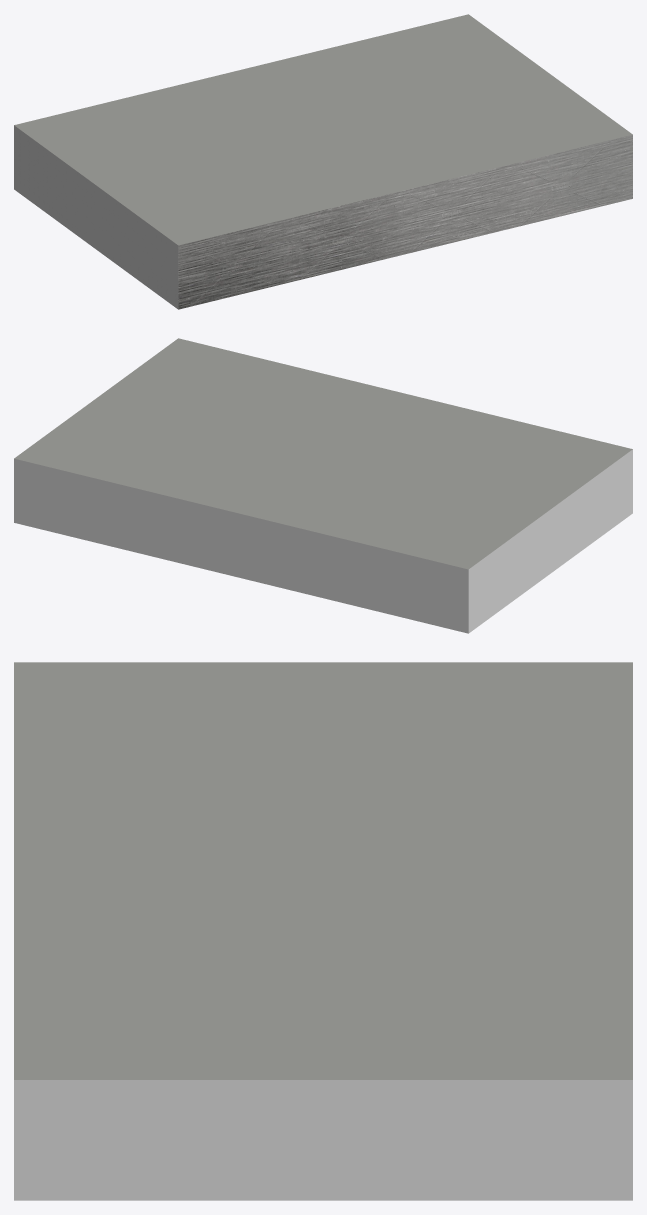
File: book.glb
3 views of the same model, one above another, from view 1: azimuth 30°, elevation 25°; view 2: azimuth 150°, elevation 25°; view 3: azimuth 270°, elevation 25° (orthographic). The views are drawn at different scales.
Parts seen in each view (by area): view 1: Mesh1_black_bumpy_old_book_cover_texture_9_0, Mesh1_a3a3c6a5cb91d6f7e969c973f112ee63_0, Mesh1_FrontColor_0; view 2: Mesh1_black_bumpy_old_book_cover_texture_9_0, Mesh1_FrontColor_0; view 3: Mesh1_black_bumpy_old_book_cover_texture_9_0, Mesh1_FrontColor_0.
Boxes of the visible parts, bbox=[...] form: Mesh1_black_bumpy_old_book_cover_texture_9_0: bbox=[14, 14, 632, 245]; Mesh1_a3a3c6a5cb91d6f7e969c973f112ee63_0: bbox=[178, 134, 632, 309]; Mesh1_FrontColor_0: bbox=[14, 125, 178, 309]; Mesh1_black_bumpy_old_book_cover_texture_9_0: bbox=[14, 338, 632, 569]; Mesh1_FrontColor_0: bbox=[14, 449, 632, 633]; Mesh1_black_bumpy_old_book_cover_texture_9_0: bbox=[14, 662, 632, 1079]; Mesh1_FrontColor_0: bbox=[14, 1080, 632, 1200].
Bounding box in the file's own units: 0.0289 × 0.0039 × 0.0181.
4 materials, 1 textured.
